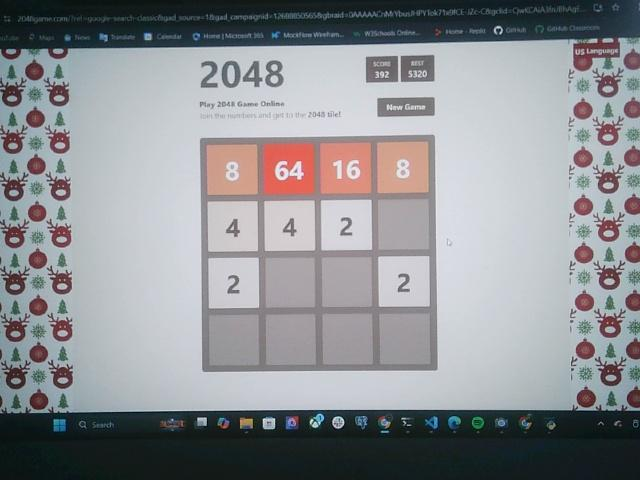board: (200, 137, 437, 372)
tile: (320, 199, 374, 251), (377, 140, 429, 194), (378, 256, 431, 308), (206, 144, 258, 196), (208, 257, 260, 309), (264, 200, 316, 252), (262, 144, 314, 195), (321, 143, 372, 194), (208, 201, 258, 252)
